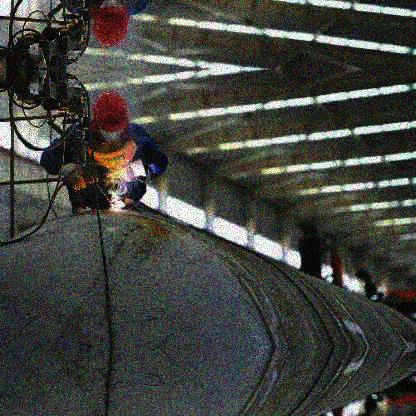helmet: (93, 90, 129, 145), (91, 1, 129, 47)
